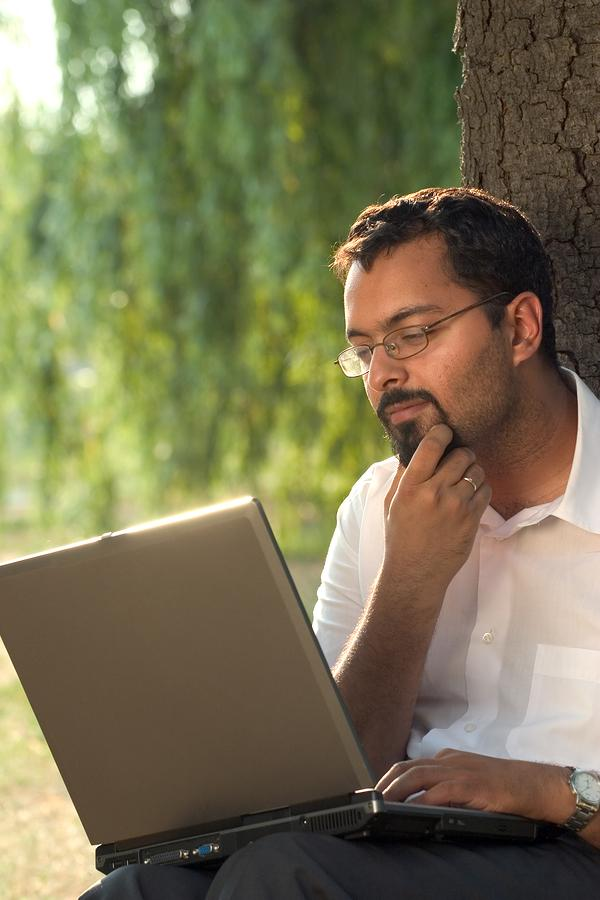person: (79, 191, 600, 900)
